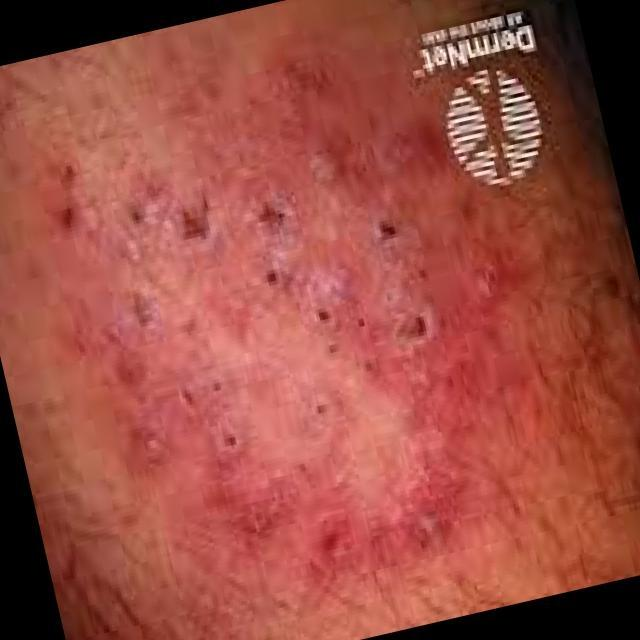Eczema: (31, 92, 481, 588)
